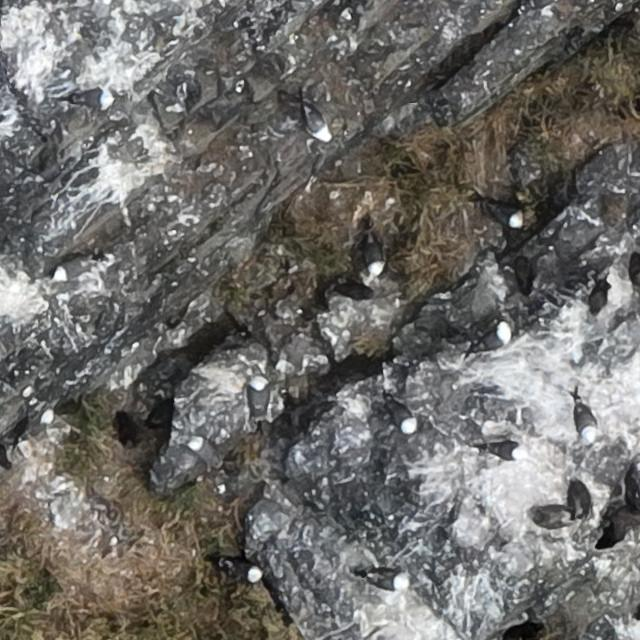umineko: (473, 321, 509, 351), (387, 399, 415, 432), (249, 376, 268, 417), (190, 439, 220, 464), (53, 258, 87, 280), (531, 508, 568, 528), (364, 572, 405, 590), (490, 205, 522, 228), (224, 562, 260, 582), (575, 405, 596, 439), (305, 108, 328, 139), (366, 241, 384, 275), (488, 442, 522, 459), (80, 90, 112, 107)
